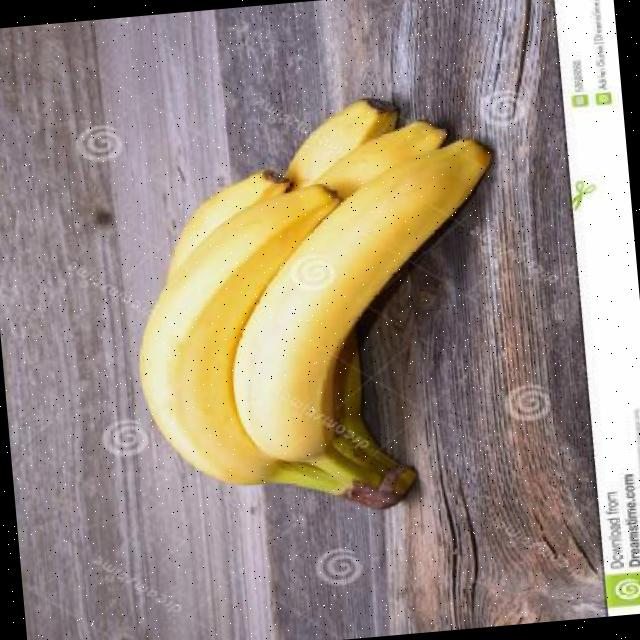banana: (138, 97, 493, 510)
